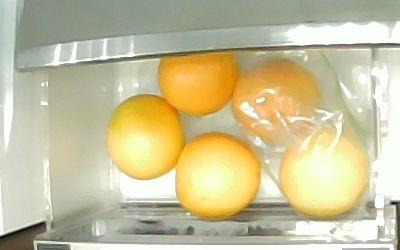grapefruit: (174, 131, 260, 218), (105, 93, 184, 179), (156, 57, 238, 116)
grapefruit_vinyl: (277, 125, 370, 217), (229, 56, 320, 143)
